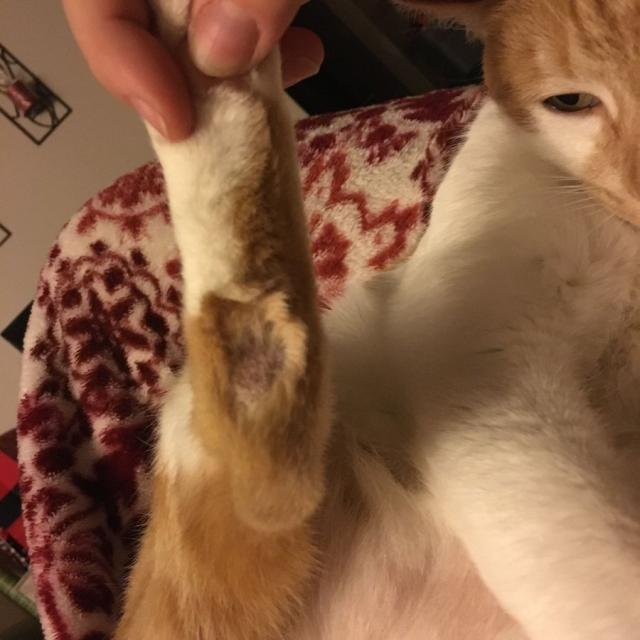hac lao: (188, 269, 308, 453)
